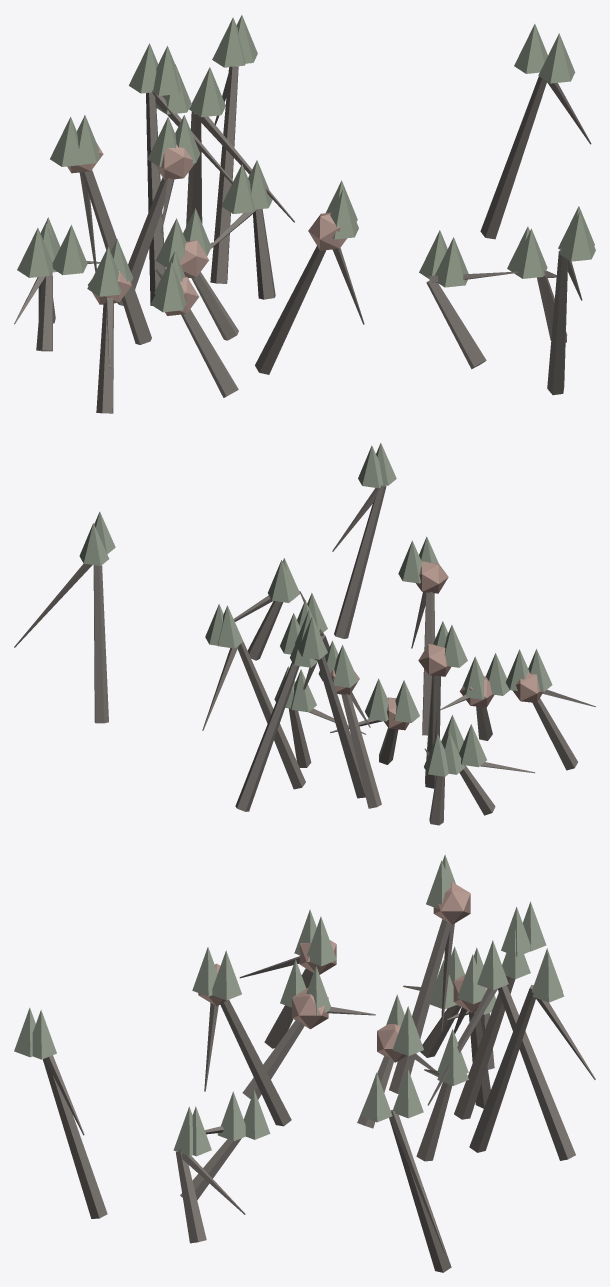
The model's file is thorn_choked_brambles.glb.
3 renders of one model, top to bottom at view 1: azimuth 30°, elevation 25°; view 2: azimuth 150°, elevation 25°; view 3: azimuth 270°, elevation 25°, orthographic. The views are drawn at different scales.
Parts seen in each view (by area): view 1: material_00, material_02, material_01; view 2: material_00, material_02, material_01; view 3: material_00, material_02, material_01.
Boxes of the visible parts, <box> form: material_00: <box>14,66,591,413</box>; material_02: <box>17,15,595,312</box>; material_01: <box>67,144,346,315</box>; material_00: <box>14,485,595,825</box>; material_02: <box>79,443,552,776</box>; material_01: <box>330,561,543,730</box>; material_00: <box>43,919,595,1272</box>; material_02: <box>14,854,564,1156</box>; material_01: <box>198,882,487,1062</box>.
Size of the model in its own units: 1.87 by 0.7033 by 1.61.
